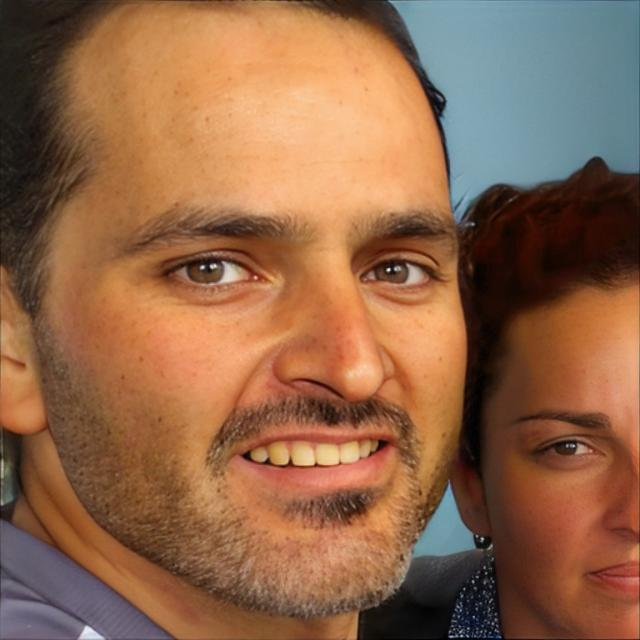happy: (49, 0, 468, 616), (481, 276, 640, 640)
